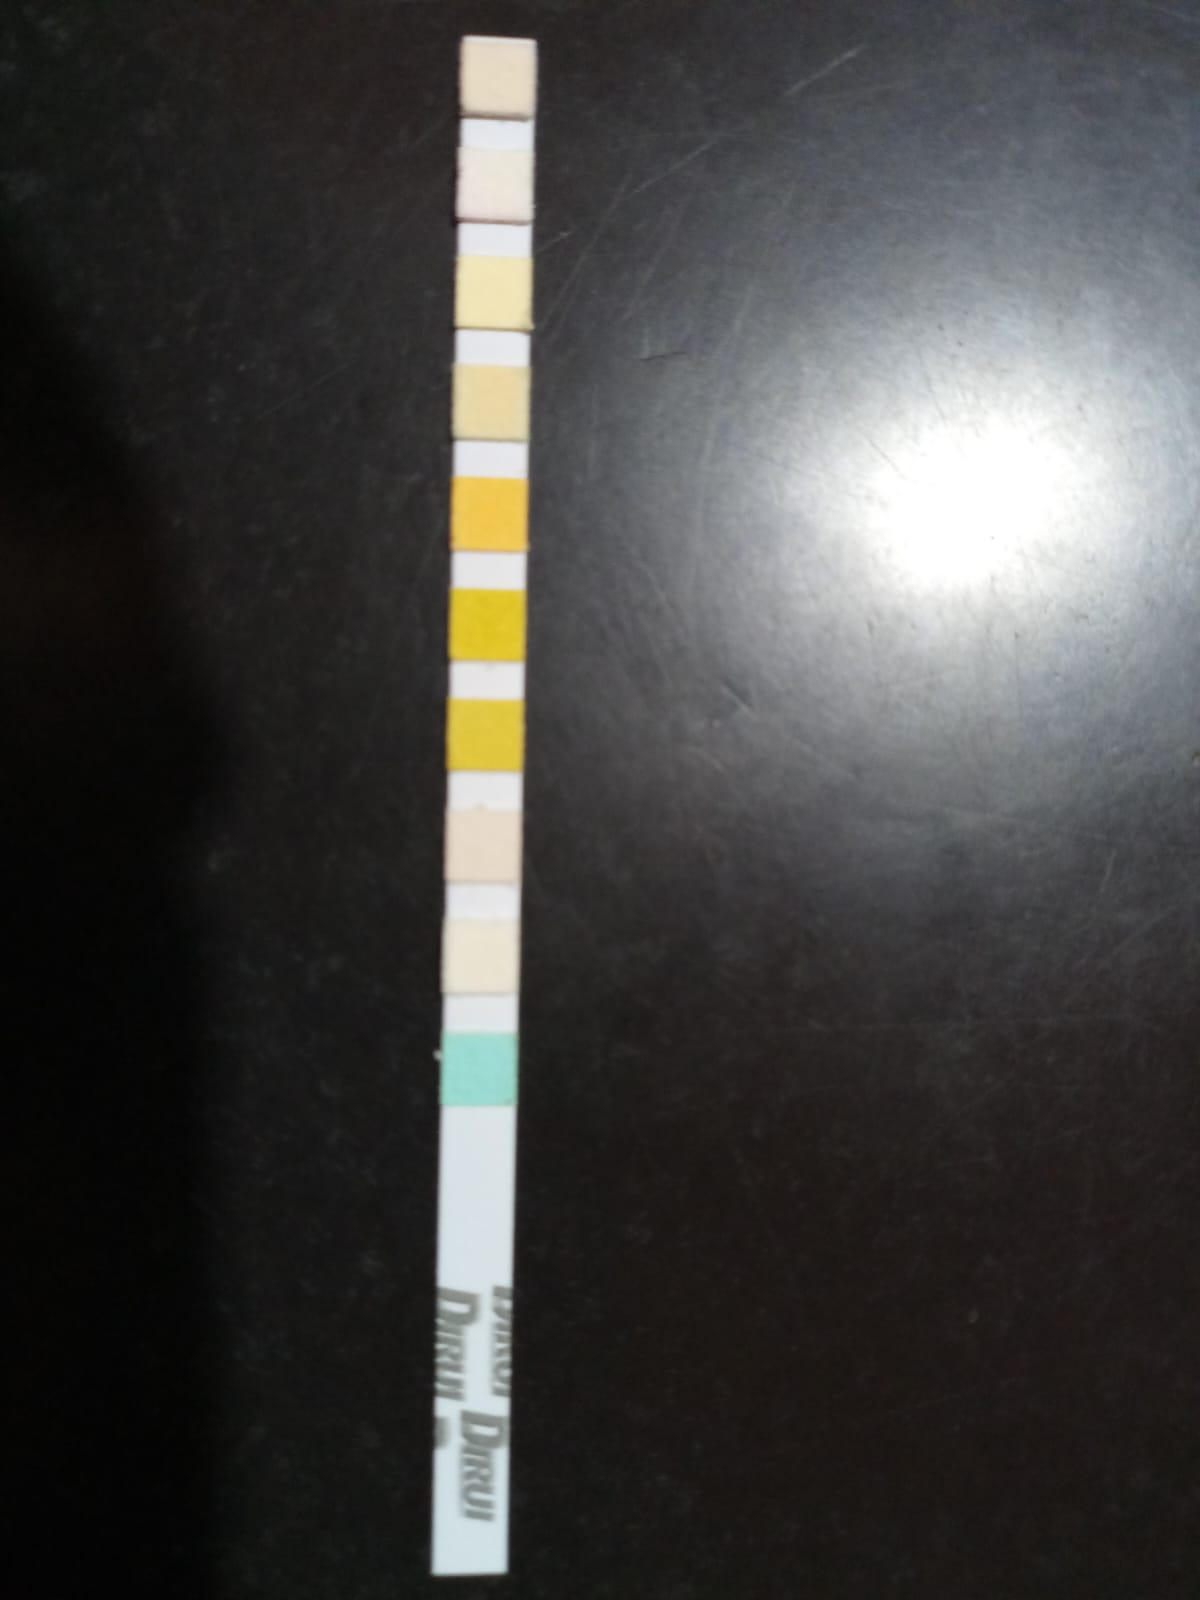color 1: (463, 45, 531, 110)
color 10: (442, 1036, 513, 1100)
color 2: (461, 151, 529, 215)
color 3: (461, 260, 528, 325)
color 4: (456, 367, 524, 436)
color 5: (455, 480, 524, 547)
color 6: (453, 592, 521, 656)
color 7: (449, 702, 517, 765)
color 8: (449, 811, 519, 876)
color 9: (446, 923, 516, 986)
